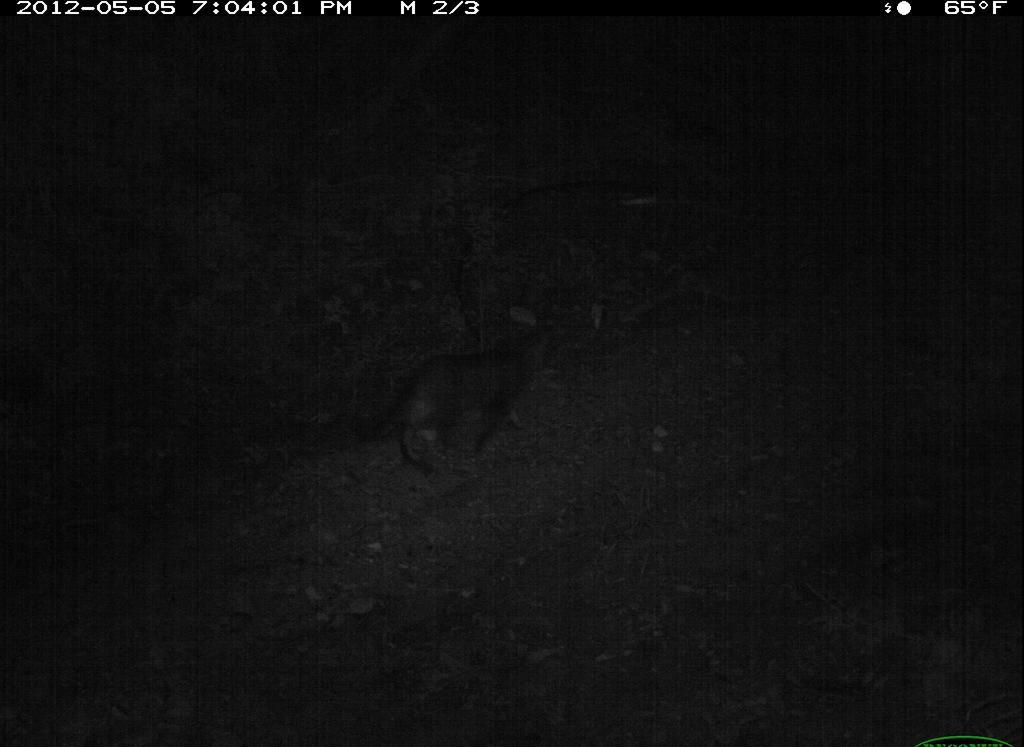cat: (331, 315, 573, 500)
